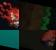eye: (0, 0, 19, 30), (31, 30, 56, 50)
